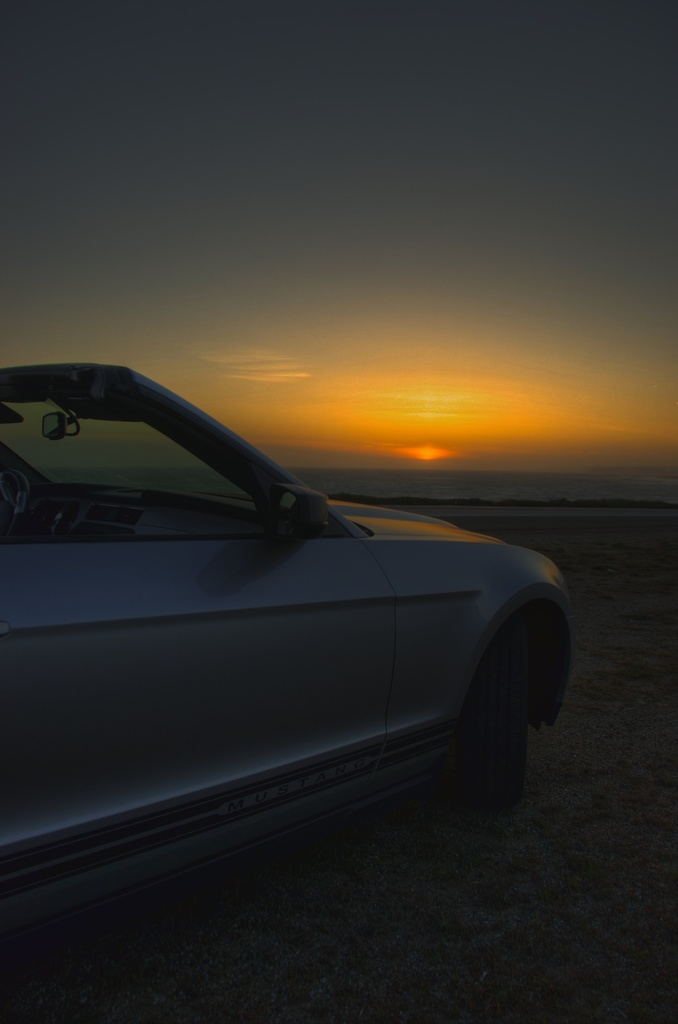Car: (0, 356, 582, 938)
